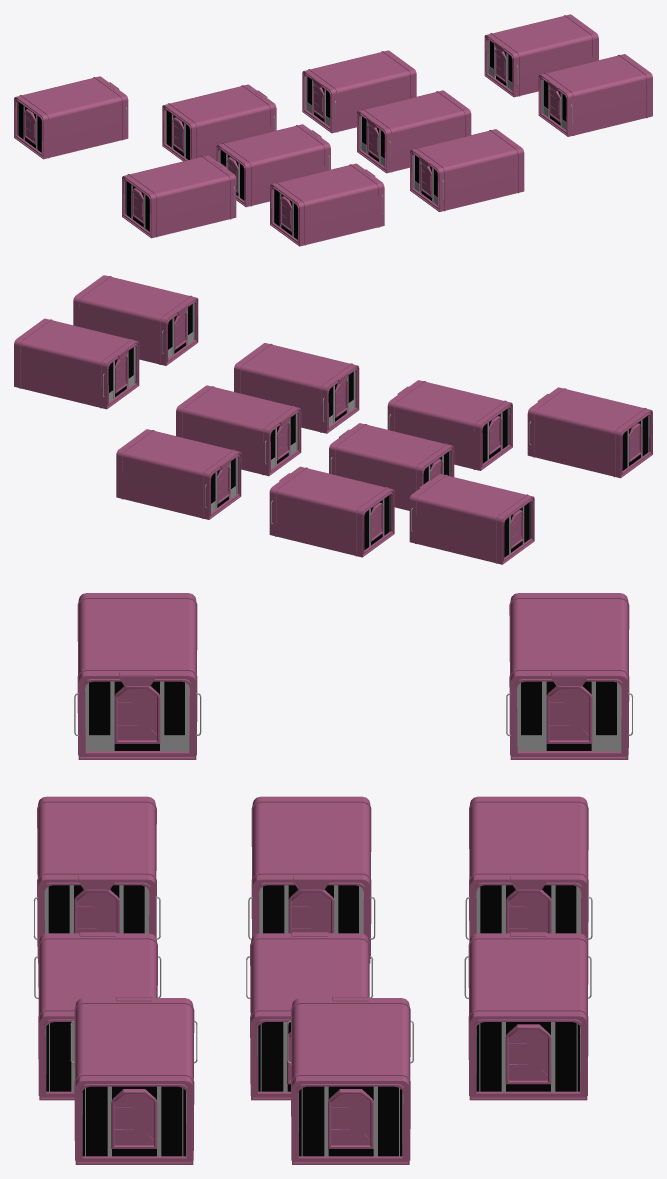
The model's file is Cellules.fbx.
3 renders of one model, top to bottom at view 1: azimuth 30°, elevation 25°; view 2: azimuth 150°, elevation 25°; view 3: azimuth 270°, elevation 25°, orthographic. The views are drawn at different scales.
Parts seen in each view (by area): view 1: Cellules12; view 2: Cellules12; view 3: Cellules12.
Part boxes in pixels (x1=…): Cellules12: x1=14, y1=14, x2=652, y2=246; Cellules12: x1=14, y1=275, x2=652, y2=564; Cellules12: x1=33, y1=593, x2=633, y2=1164.
Size of the model in its own units: 59.12 by 8.75 by 30.58.
